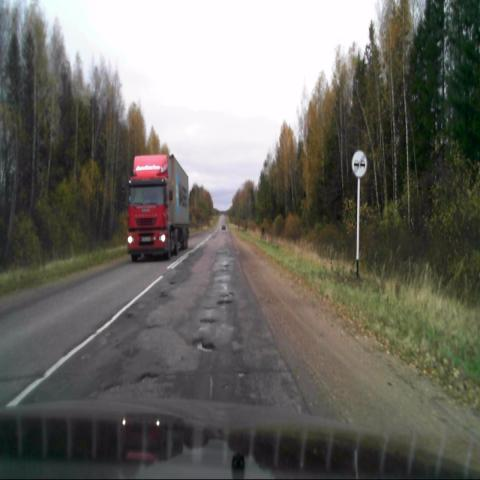3_21: (351, 150, 368, 177)
